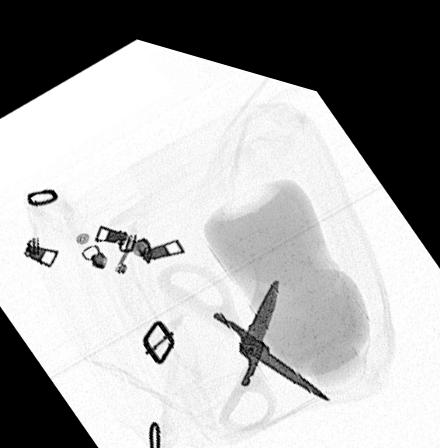Scissors: (152, 248, 330, 421)
